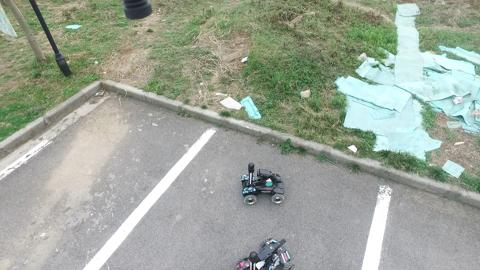chariot: (228, 227, 296, 270), (232, 160, 290, 210)
